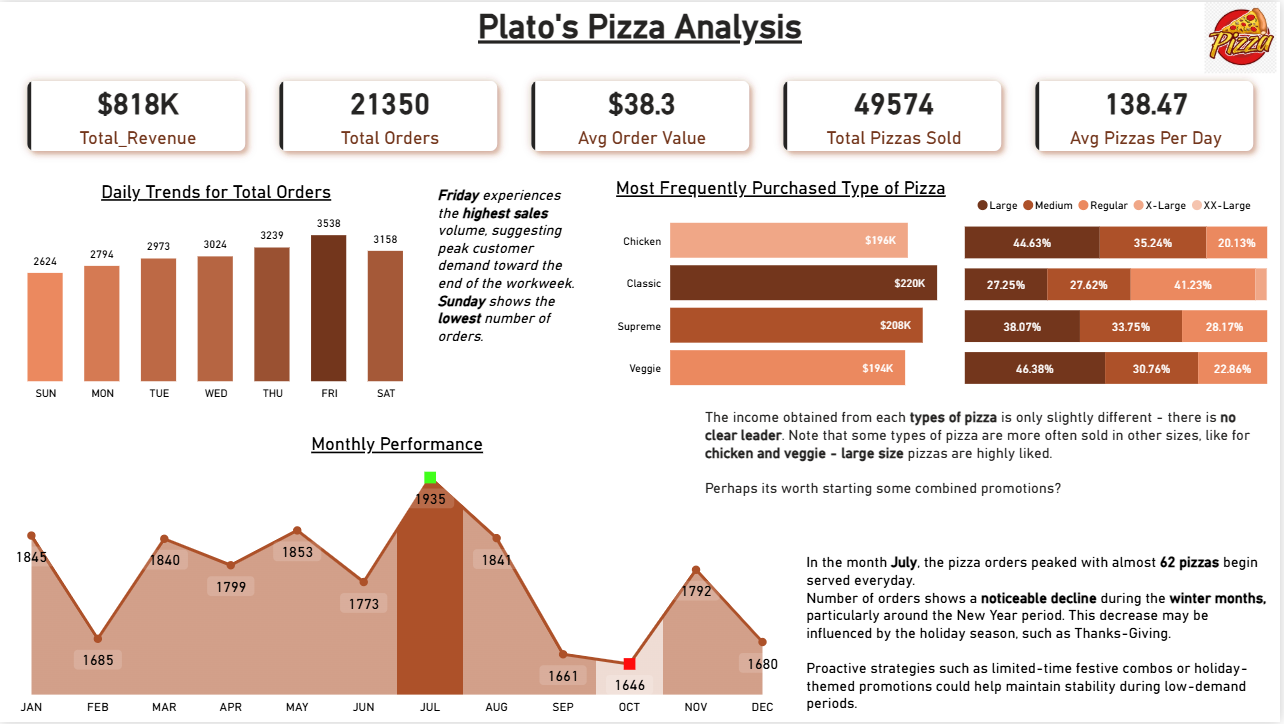

This screenshot's page, from the dashboard's own definition file:
{"tool":"powerbi","page":{"name":"Overview","canvas":[1280,720],"ordinal":0},"visuals":[{"type":"cardVisual","fields":{"Data":["pizza_sales.Total_Revenue","pizza_sales.Total Orders","pizza_sales.Avg Order Value","pizza_sales.Total Pizzas Sold","pizza_sales.Avg Pizzas Per Hour"]},"box":[0,52.9,1280,122.9],"z":0},{"type":"textbox","box":[0,0,1280,53.3],"z":1000},{"type":"columnChart","title":"Daily Trends for Total Orders","fields":{"Category":["pizza_sales.Order Day"],"Y":["pizza_sales.Total Orders"]},"box":[0,178.8,432.5,227.5],"z":2000},{"type":"areaChart","title":"Monthly Performance","fields":{"Y":["pizza_sales.Total Orders"],"Category":["pizza_sales.Order Month"]},"box":[0,431.4,794.3,288.6],"z":3000},{"type":"textbox","box":[432.5,178.8,148.8,205],"z":4000},{"type":"group","id":"g1","title":"Group 2","box":[613.8,175,660,226.2],"z":5000},{"type":"textbox","box":[700,401.2,572.5,106.2],"z":6000},{"type":"textbox","box":[801.4,545.7,478.6,174.3],"z":7000},{"type":"image","box":[1201.4,0,78.6,71.4],"z":8000},{"type":"clusteredBarChart","title":"Most Frequently Purchased Type of Pizza","fields":{"Category":["pizza_sales.pizza_category"],"Y":["pizza_sales.Total Revenue"]},"box":[613.8,175,361.2,226.2],"z":8000,"group":"g2"},{"type":"hundredPercentStackedBarChart","title":"Most Frequently Purchased Type of Pizza","fields":{"Category":["pizza_sales.pizza_category"],"Y":["pizza_sales.Size % of Category (row)"],"Series":["pizza_sales.pizza_size"]},"box":[960,183.8,312.4,205],"z":8000,"group":"g3"},{"type":"group","id":"g2","title":"Group 1","box":[613.8,175,361.2,226.2],"z":10000,"group":"g1"},{"type":"group","id":"g3","title":"Group 1","box":[960,183.8,313.8,205],"z":11000,"group":"g1"}]}

Visuals, with their boxes in screenshot pixels (x1, y1, x2, y2), scaled from the page's 1280x720 canvas onto the 1284x724 screenshot:
cardVisual - pizza_sales.Total_Revenue x pizza_sales.Total Orders: bbox(0, 53, 1283, 177)
textbox: bbox(0, 0, 1283, 54)
"Daily Trends for Total Orders" columnChart: bbox(0, 180, 434, 409)
"Monthly Performance" areaChart: bbox(0, 434, 797, 723)
textbox: bbox(434, 180, 583, 386)
"Group 2" group: bbox(616, 176, 1278, 403)
textbox: bbox(702, 403, 1276, 510)
textbox: bbox(804, 549, 1283, 723)
image: bbox(1205, 0, 1283, 72)
"Most Frequently Purchased Type of Pizza" clusteredBarChart: bbox(616, 176, 978, 403)
"Most Frequently Purchased Type of Pizza" hundredPercentStackedBarChart: bbox(963, 185, 1276, 391)
"Group 1" group: bbox(616, 176, 978, 403)
"Group 1" group: bbox(963, 185, 1278, 391)
